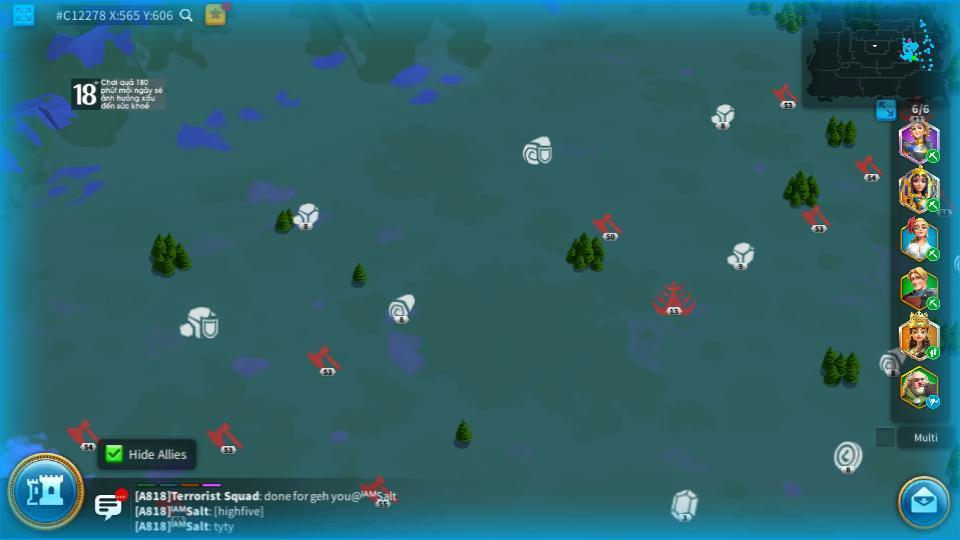gem-z-out: (668, 490, 700, 518)
march_farming: (924, 198, 939, 213), (925, 297, 941, 310), (924, 149, 939, 162)
march_idle: (925, 396, 942, 408)
march_marching: (925, 345, 941, 359)
